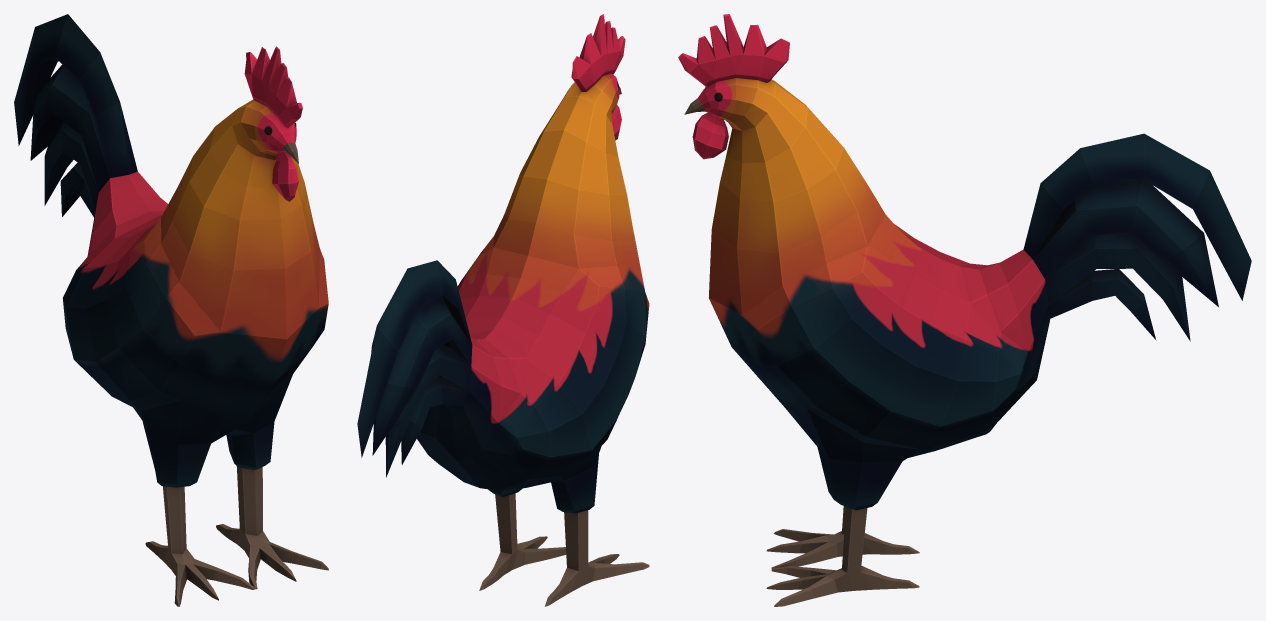
Rendered from Rooster.glb.
The picture shows the model from 3 angles, left to right: view 1: azimuth 30°, elevation 25°; view 2: azimuth 150°, elevation 25°; view 3: azimuth 270°, elevation 25°; orthographic projection. The views are drawn at different scales.
Parts seen in each view (by area): view 1: Rooster_mesh; view 2: Rooster_mesh; view 3: Rooster_mesh.
Part boxes in pixels (x1,y1,x2,y2): Rooster_mesh: [14, 14, 328, 606]; Rooster_mesh: [357, 14, 649, 606]; Rooster_mesh: [678, 14, 1251, 606].
Bounding box in the file's own units: 1.29 × 3.47 × 3.24.
1 material, 1 textured.
